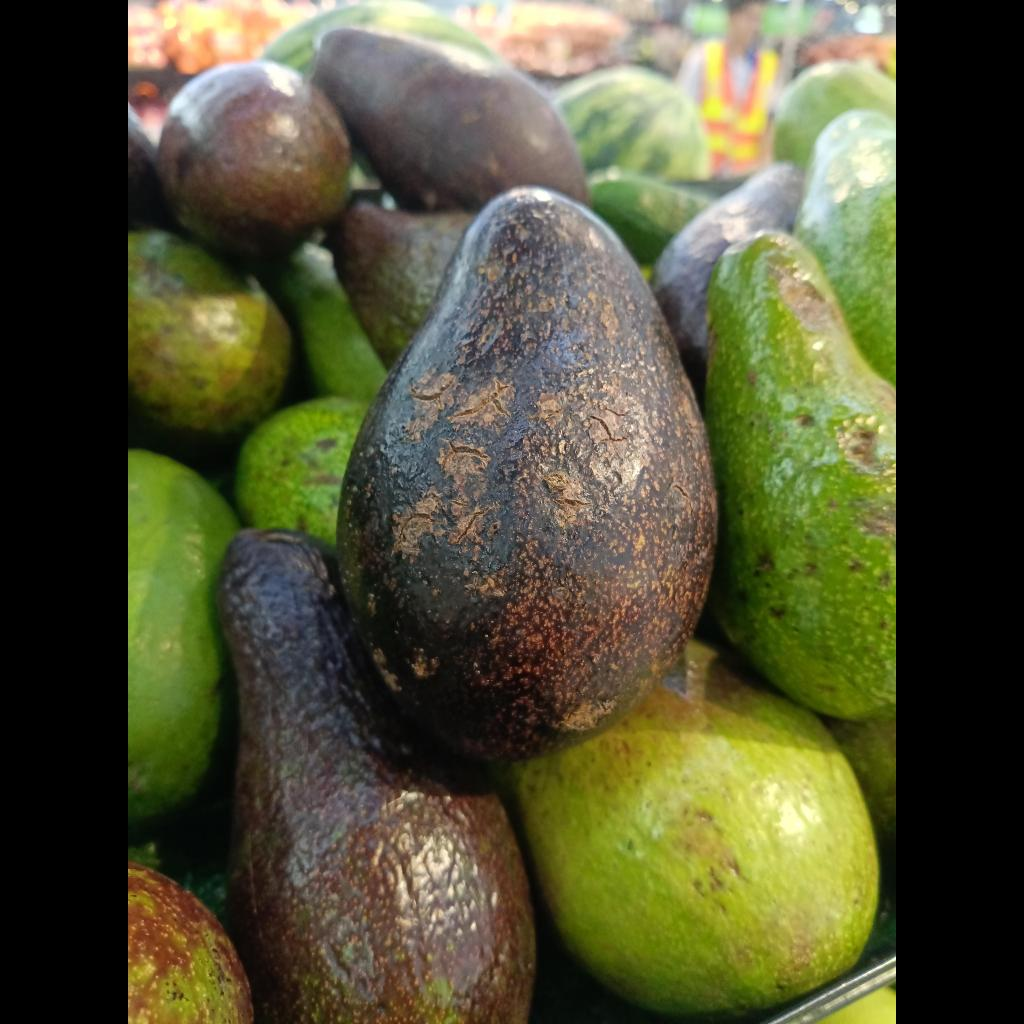rona: (337, 187, 716, 759)
